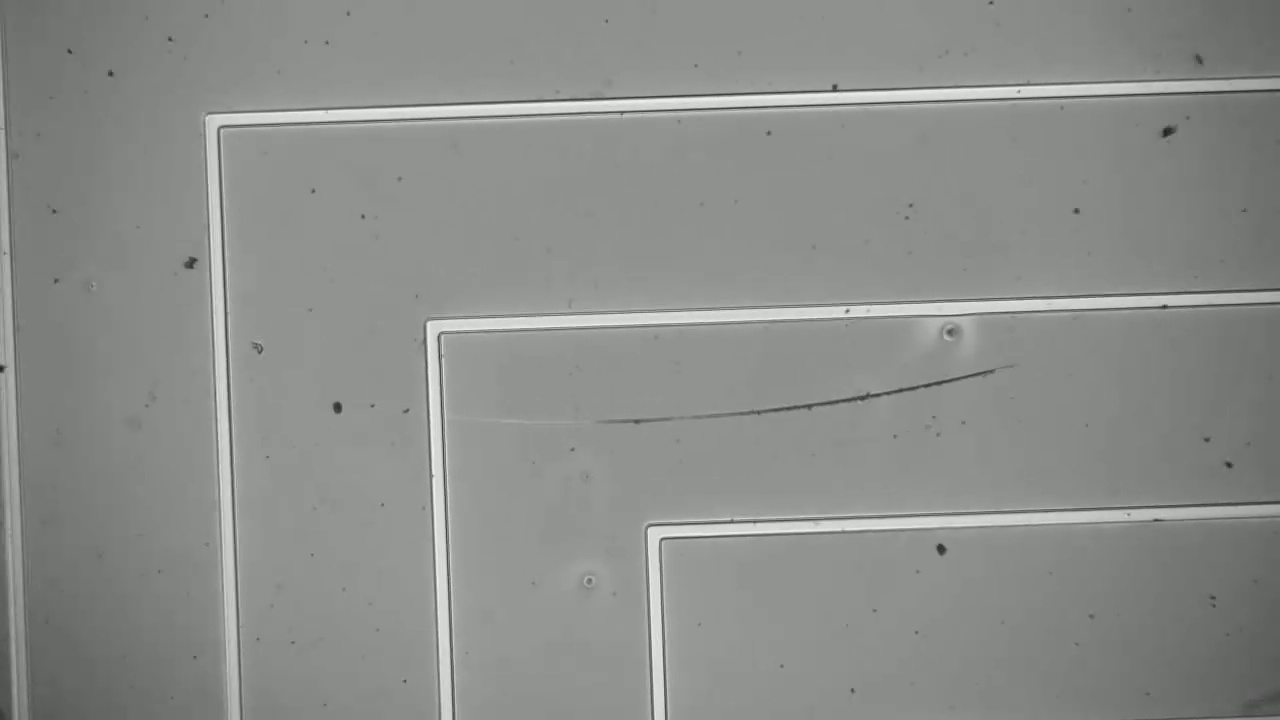scratch: (599, 357, 1026, 427)
